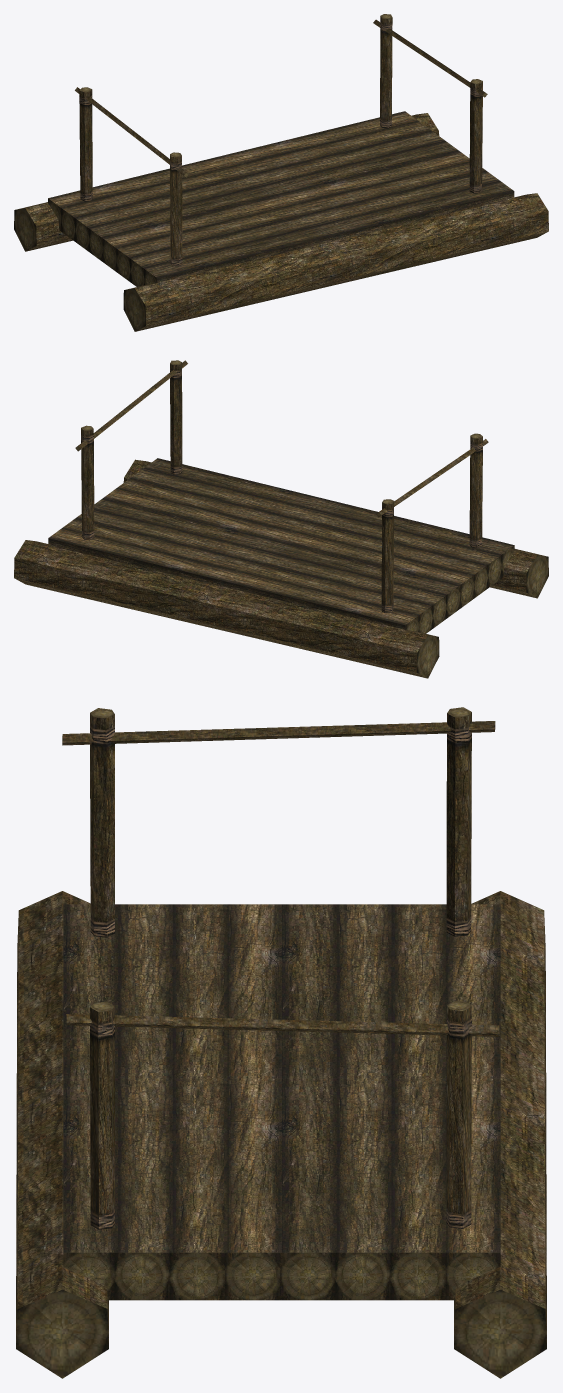
The model's file is thm_endr_village_tree_catwlk_cap_s01_l0.fbx.
3 views of the same model, one above another, from view 1: azimuth 30°, elevation 25°; view 2: azimuth 150°, elevation 25°; view 3: azimuth 270°, elevation 25° (orthographic). The views are drawn at different scales.
Parts seen in each view (by area): view 1: mesh_node; view 2: mesh_node; view 3: mesh_node.
Boxes of the visible parts, x1,y1,x2,y2 form: mesh_node: [14, 14, 548, 331]; mesh_node: [14, 360, 548, 678]; mesh_node: [16, 707, 546, 1378].
Bounding box in the file's own units: 4.04 × 1.55 × 2.31.
